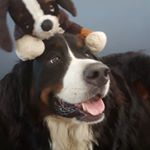puppy: (19, 29, 118, 150)
